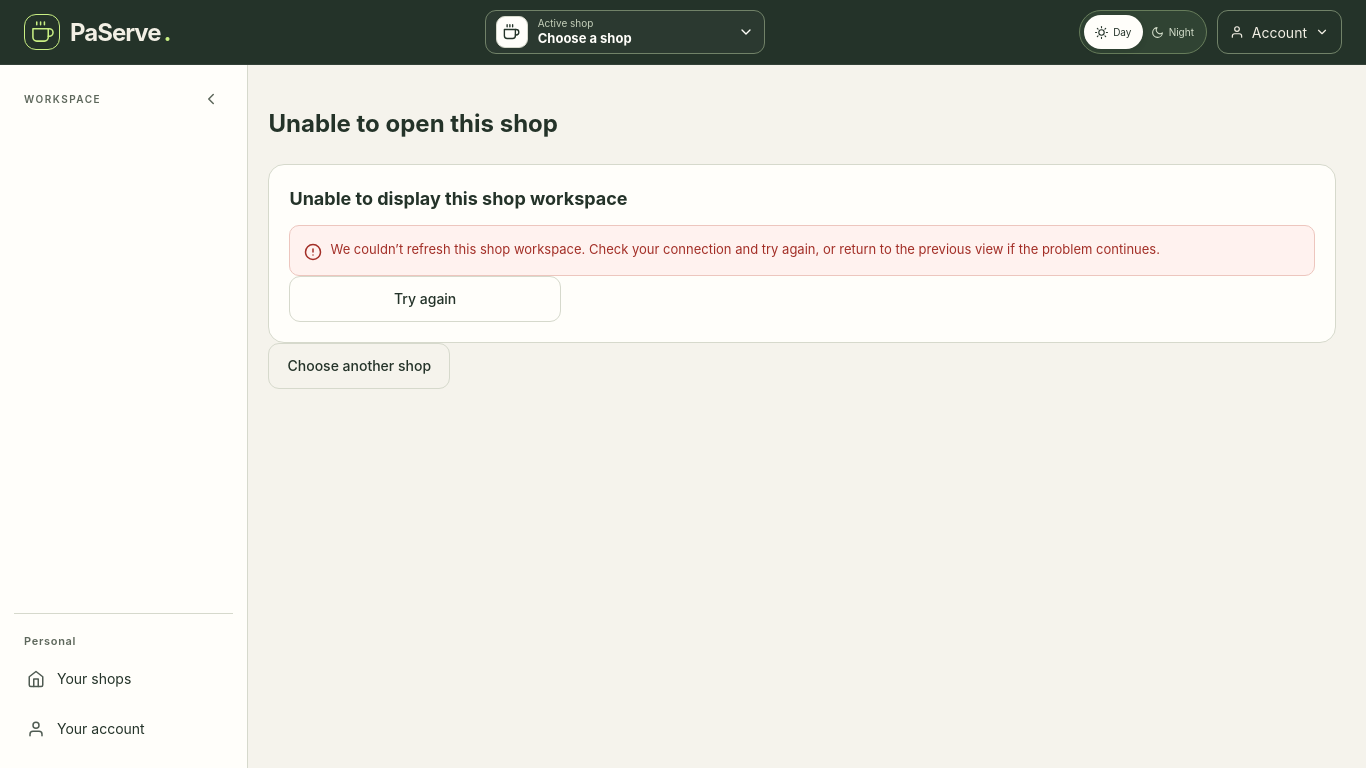
Scenario: honors the URL over the saved hint and lets network errors be retried
Check: the heading "Unable to open this shop" is shown, box [268, 109, 558, 138]
Click the button "Try again": (425, 299) [290, 276, 561, 322]
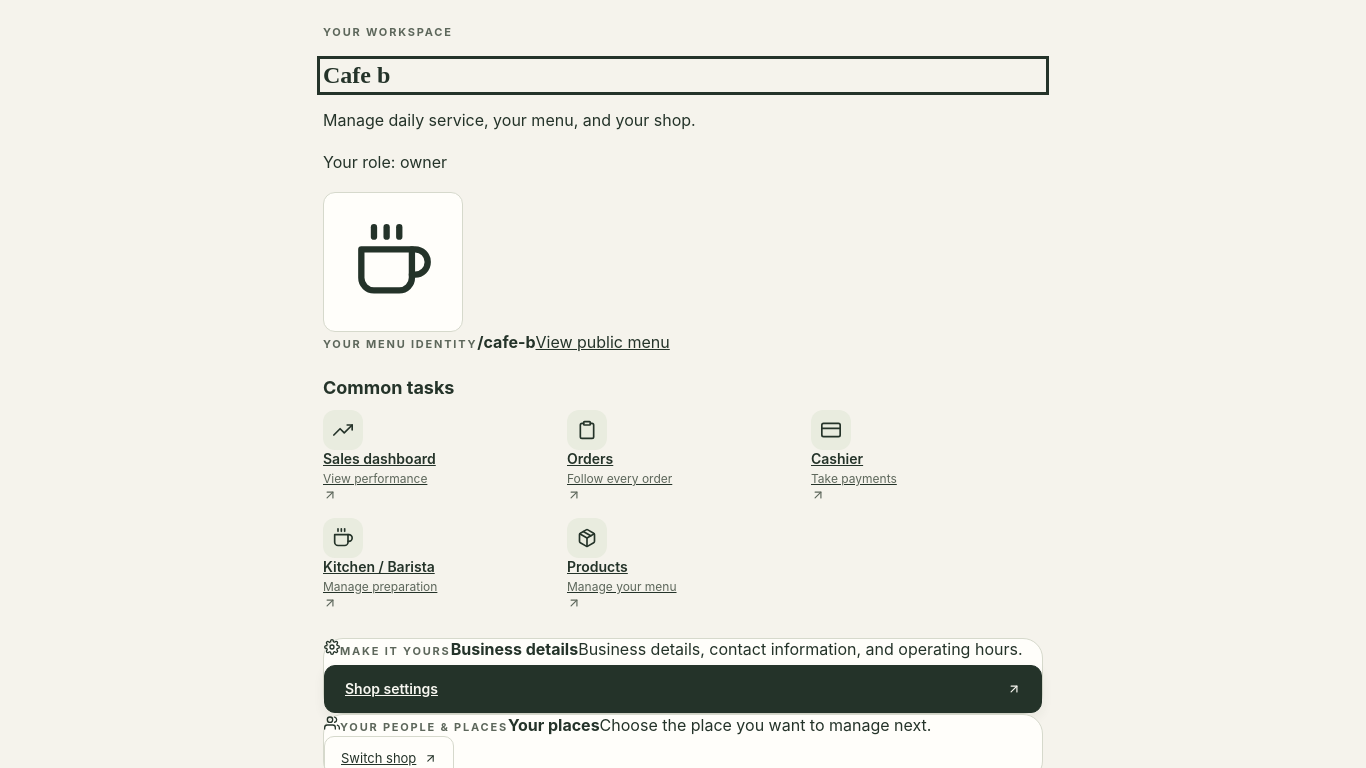
Check: the heading "Cafe b" is shown, box [323, 62, 390, 88]
